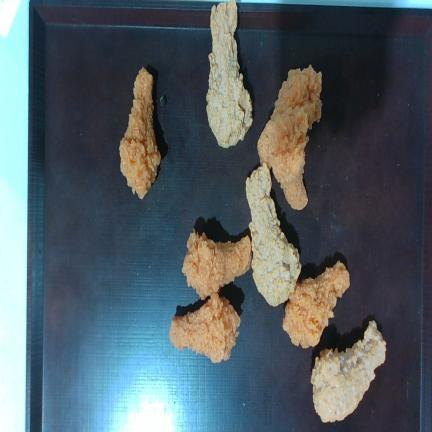chicken: (246, 163, 301, 306), (310, 320, 386, 422), (206, 0, 252, 148), (258, 65, 322, 167), (283, 261, 350, 348), (119, 67, 161, 199), (182, 229, 252, 299), (169, 293, 240, 362)
